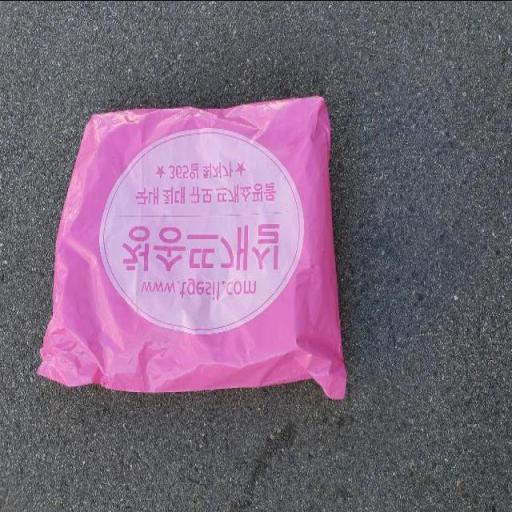plastic-bag: (33, 89, 347, 401)
